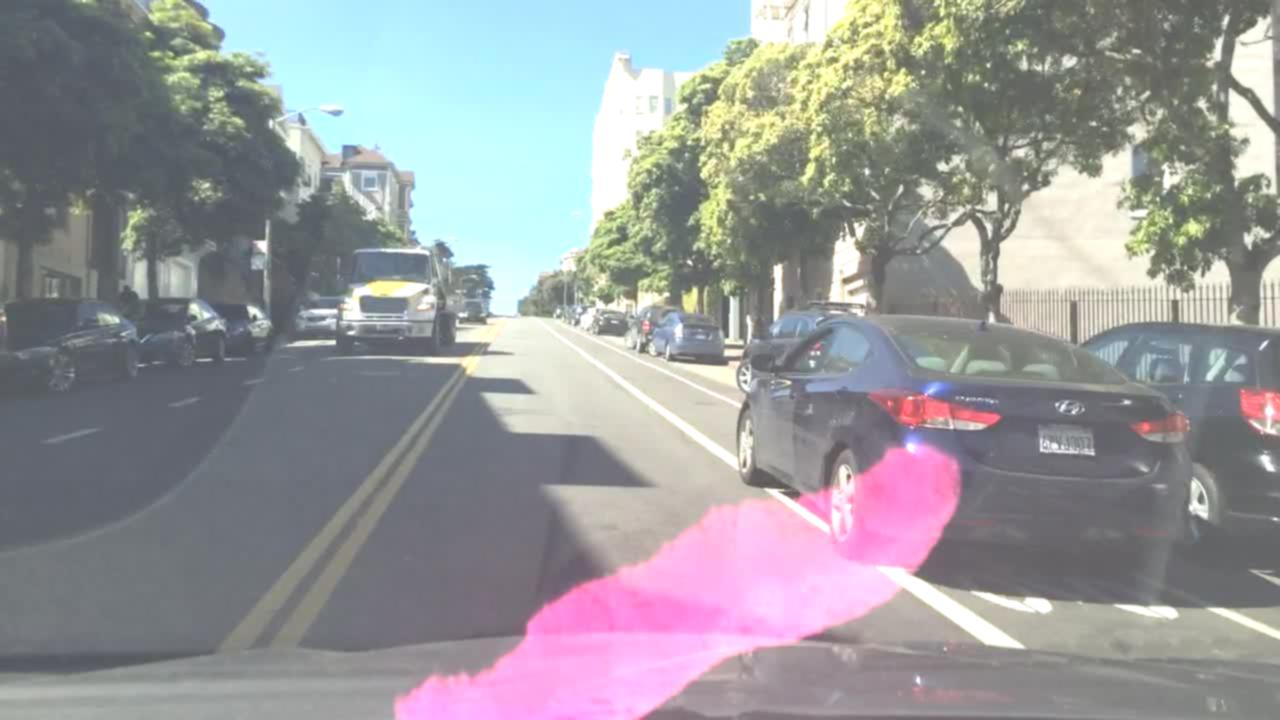Hyundai: (1055, 399, 1085, 417)
